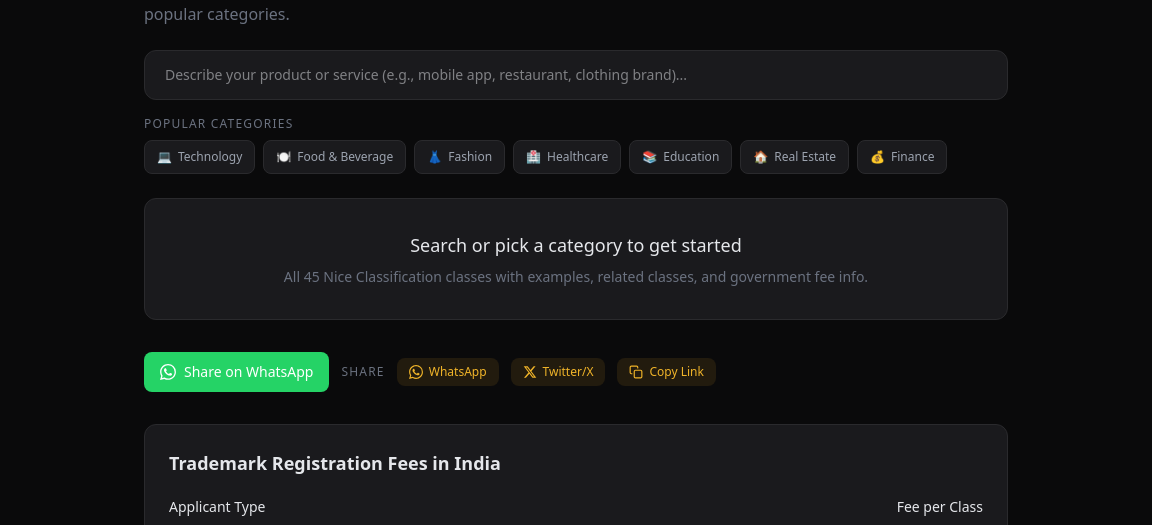
it: TrademarkClassFinder › updates cost when multiple classes are selected
In the field with placeholder "Describe your product or service": (576, 75) x1=144 y1=50 x2=1008 y2=100, type "software"
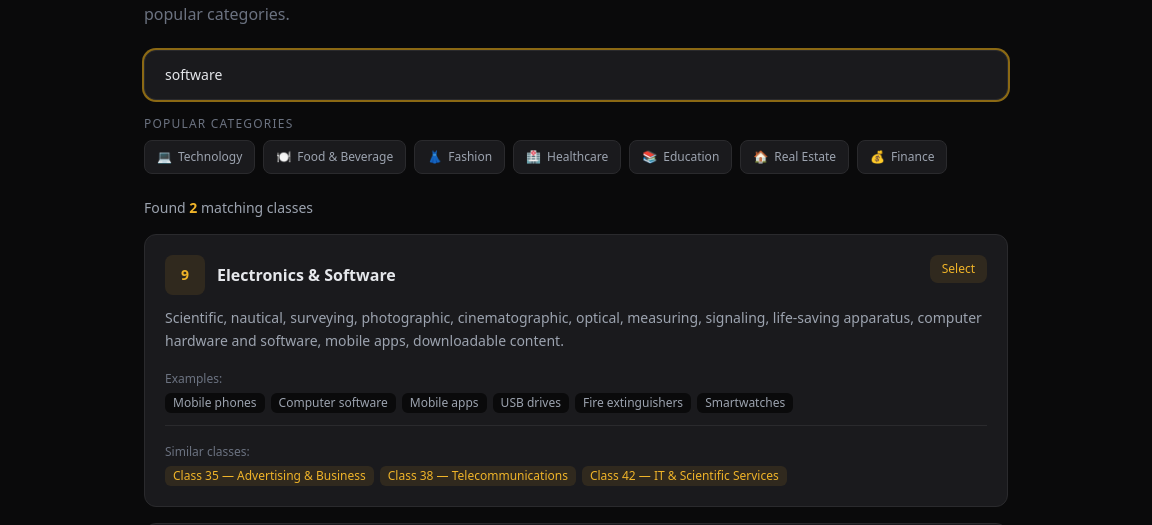
Click the 1st button "Select": (958, 269) x1=930 y1=255 x2=987 y2=283
(page scrolled)
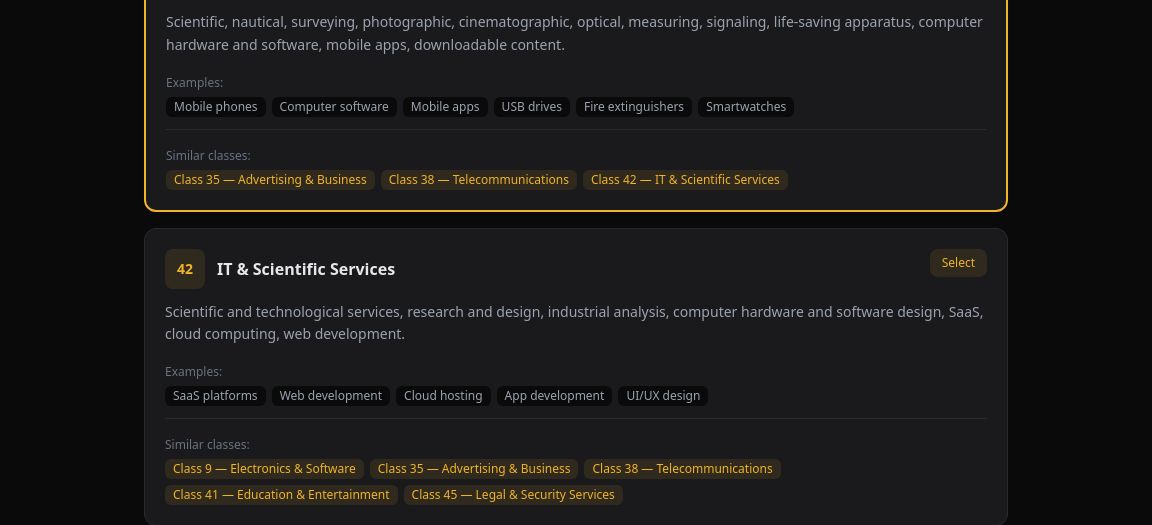
Click the button "Select": (958, 262) x1=930 y1=248 x2=987 y2=276
(page scrolled)
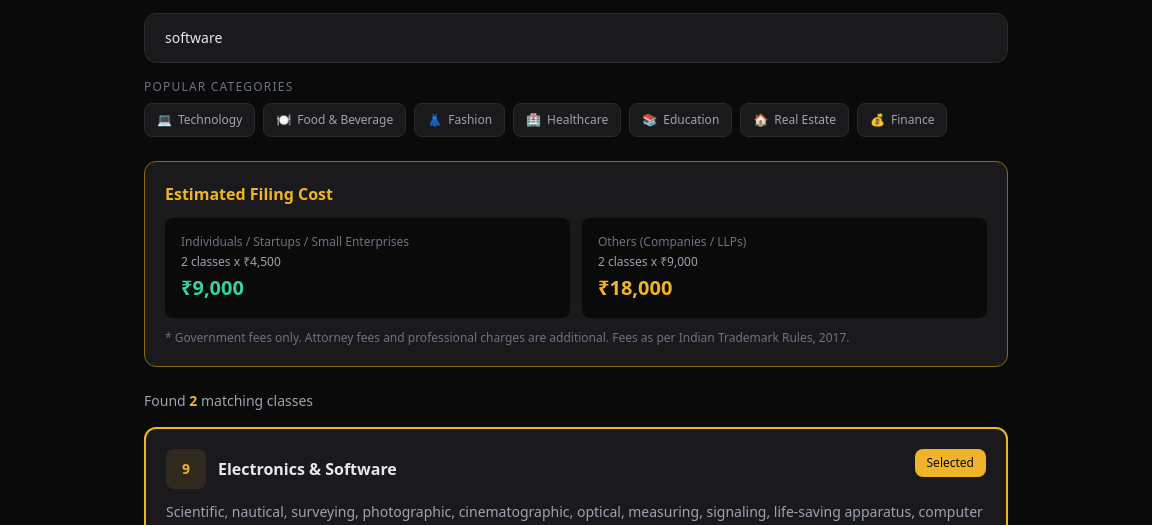
Result: the text "2 classes x ₹4,500" is shown at x1=181 y1=253 x2=281 y2=270
Result: the text "2 classes x ₹9,000" is shown at x1=598 y1=253 x2=698 y2=270
